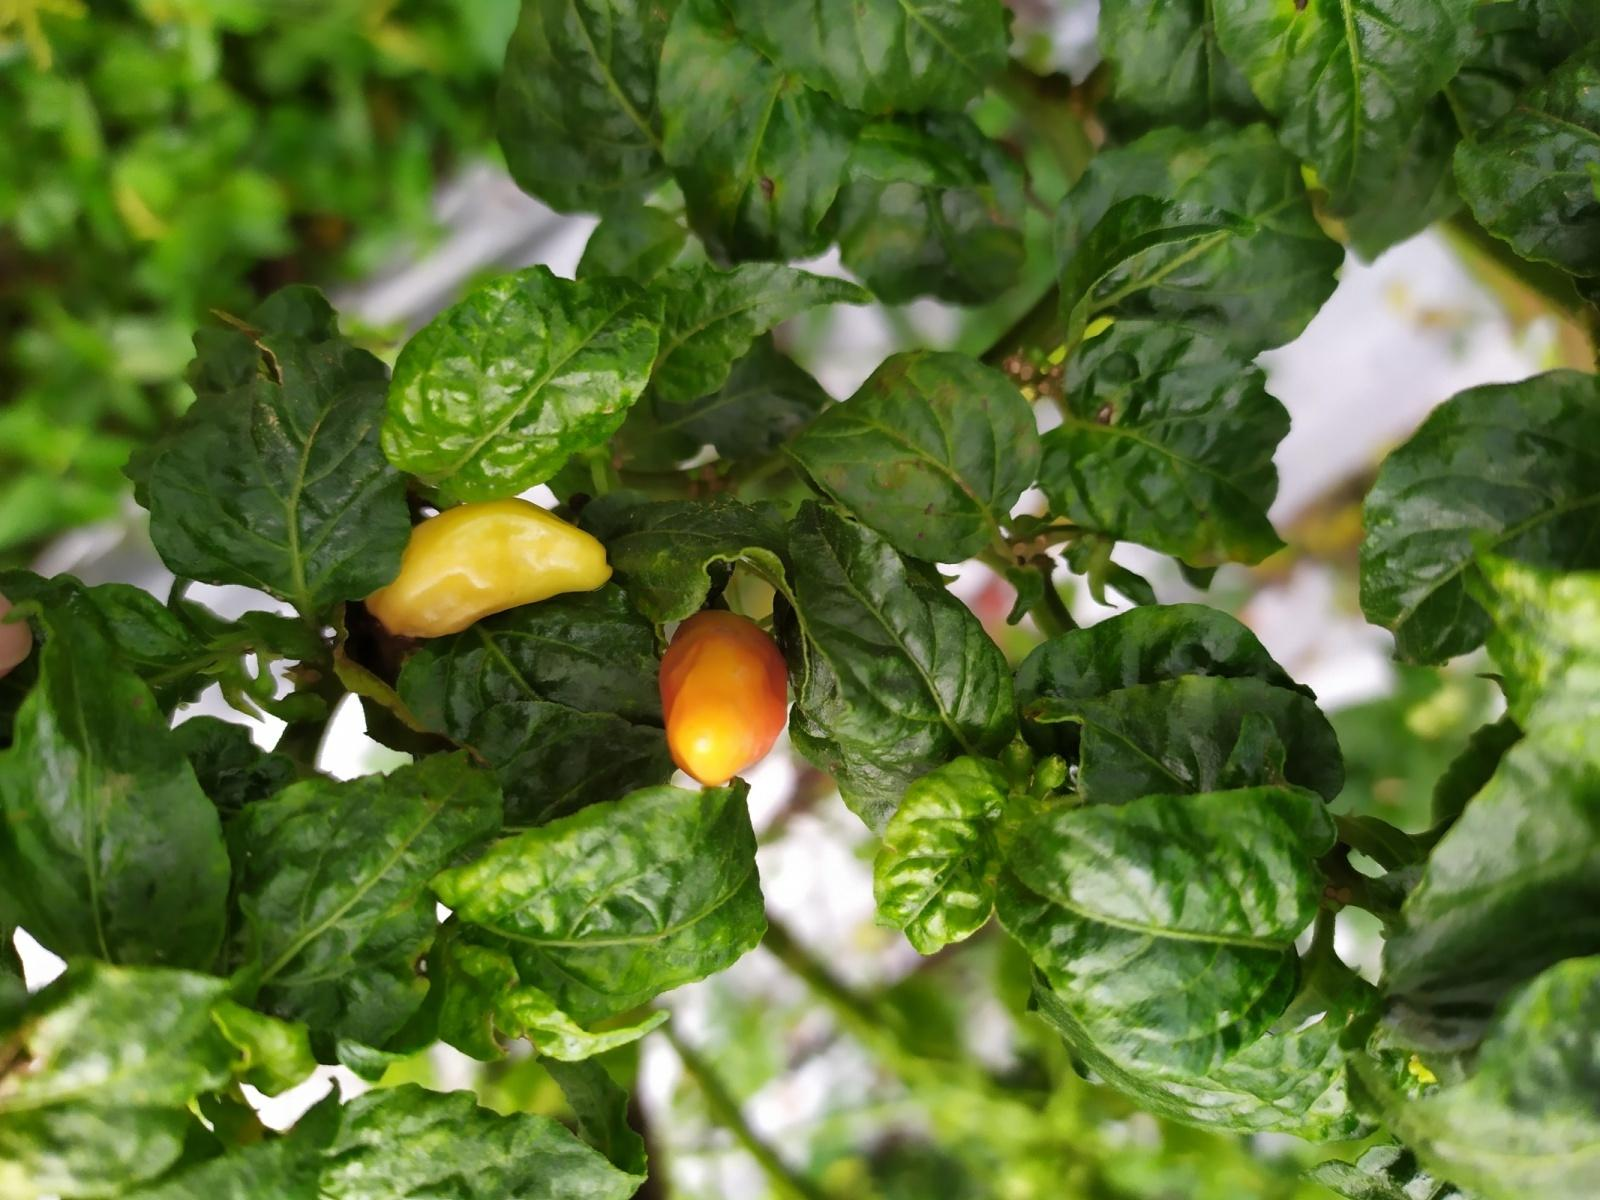cabai_normal: (363, 495, 615, 639), (658, 609, 789, 789)
